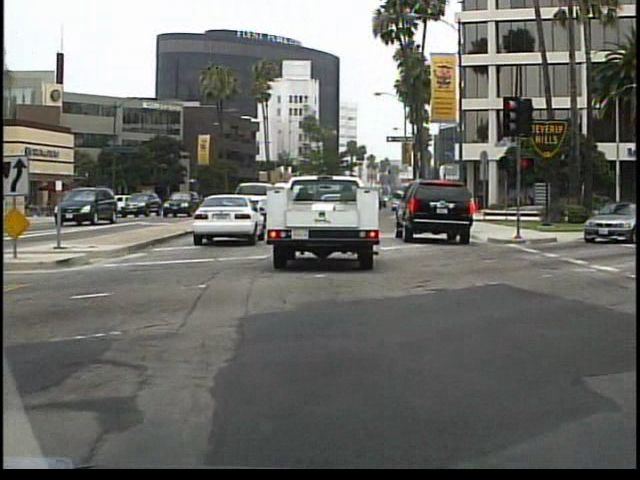person: (93, 189, 112, 222)
